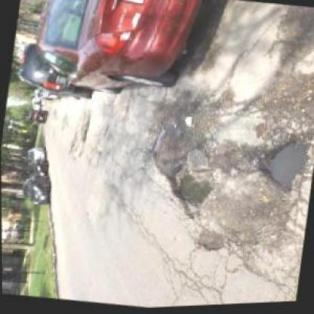Hueco: (159, 157, 220, 224), (254, 133, 310, 198), (194, 226, 225, 256), (78, 117, 90, 143), (181, 116, 196, 132)
